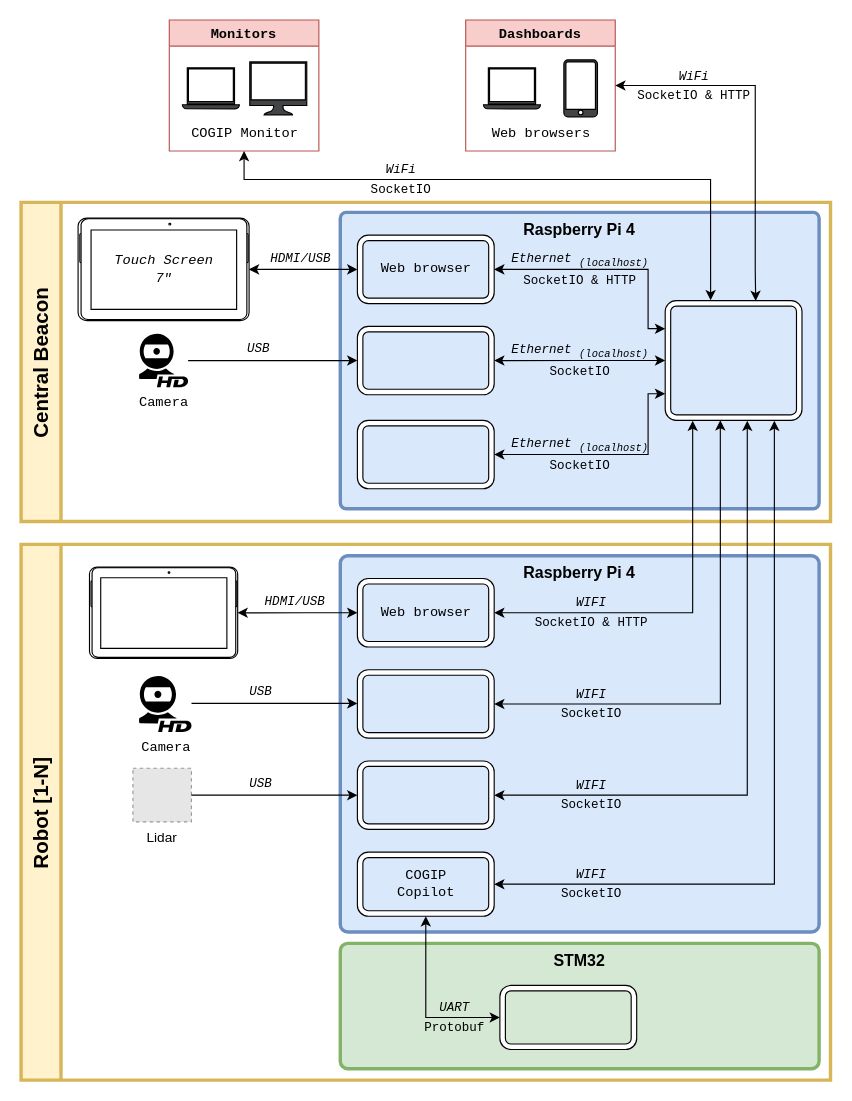
Some shapes in this 852 by 1101 pixel diagram are drawn without their labels. Grey dashed boxes stand in for pictures. Here are the shapes that lost their labels. From the top down, the centre of each, then its label:
[425,360]: COGIP Beaconcam
[733,359]: COGIP Server
[425,454]: COGIP Planner
[163,612]: Touch Screen 5"
[425,703]: COGIP Robotcam
[425,794]: COGIP Detector
[568,1016]: mcu-firmware
